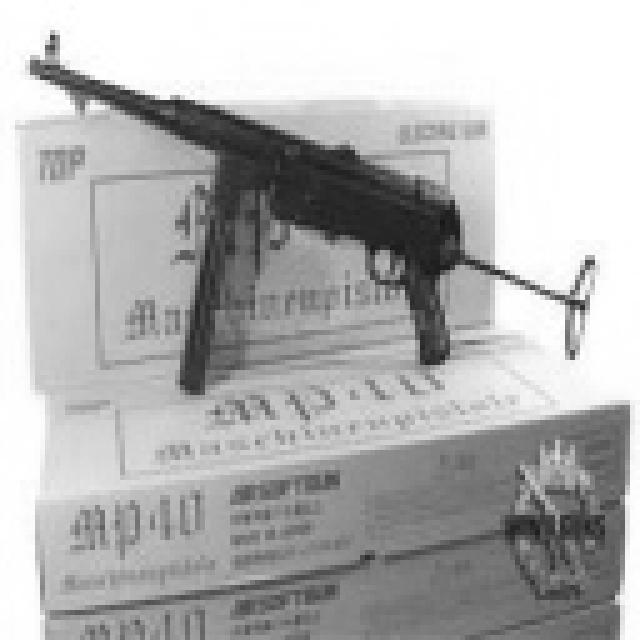Rifle: (0, 0, 622, 427)
